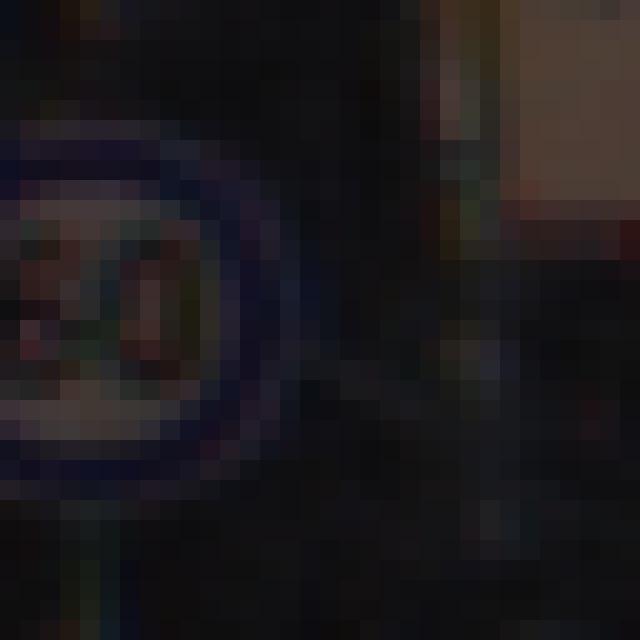SPEED-LIMIT-60: (0, 112, 326, 536)
